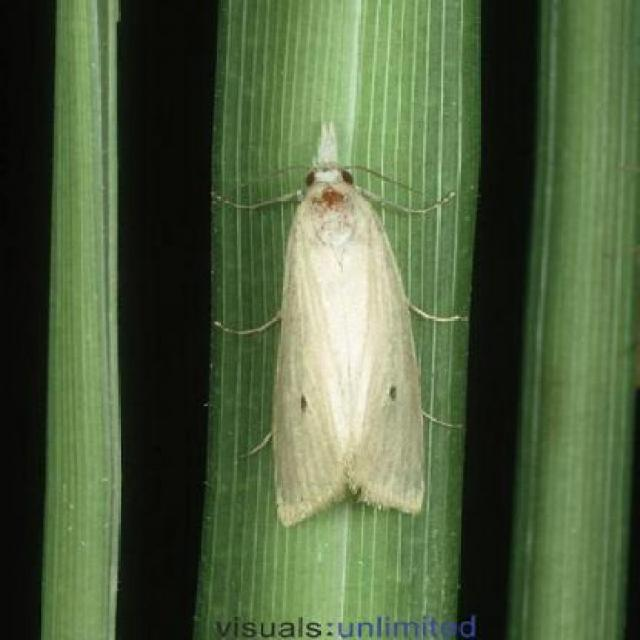stem-borer: (228, 117, 448, 534)
